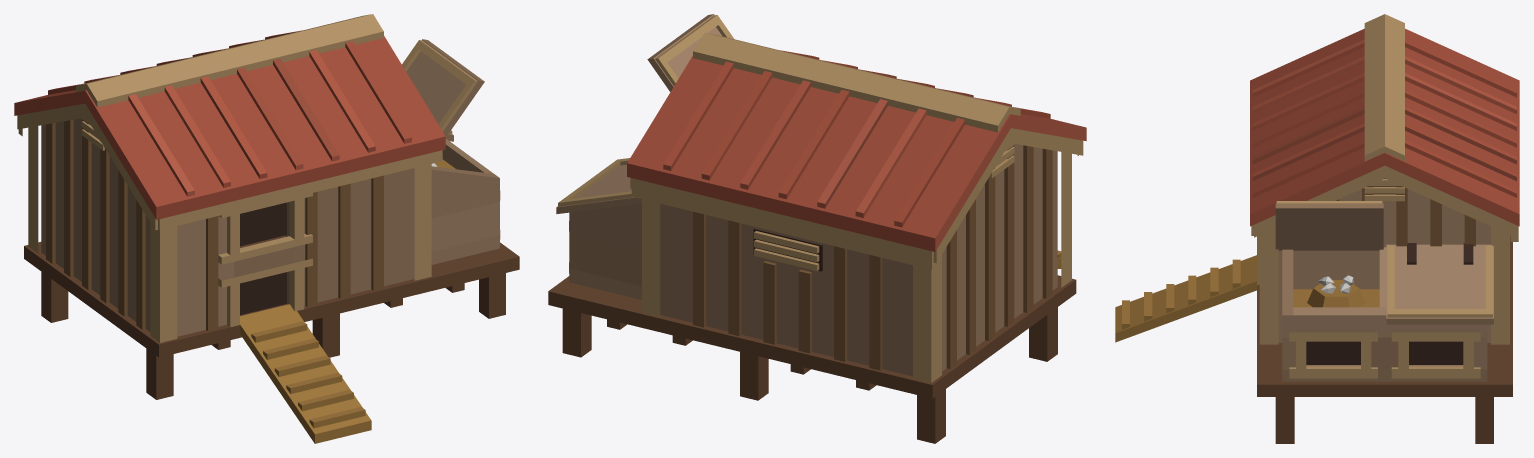
Rendered from chicken-coop-371f97.glb.
3 views of the same model, side by side, from view 1: azimuth 30°, elevation 25°; view 2: azimuth 150°, elevation 25°; view 3: azimuth 270°, elevation 25° (orthographic). The views are drawn at different scales.
Parts seen in each view (by area): view 1: object 1, object 8, nest-lid-b; view 2: object 1, nest-lid-a, nest-lid-b; view 3: object 1, nest-lid-a, nest-lid-b, object 8.
Part boxes in pixels (bbox=[...]): object 1: bbox=[14, 14, 519, 399]; object 8: bbox=[240, 304, 371, 443]; nest-lid-b: bbox=[402, 39, 484, 137]; object 1: bbox=[548, 32, 1086, 443]; nest-lid-a: bbox=[556, 158, 641, 214]; nest-lid-b: bbox=[647, 14, 734, 91]; object 1: bbox=[1250, 14, 1519, 443]; nest-lid-a: bbox=[1386, 243, 1493, 324]; nest-lid-b: bbox=[1275, 201, 1383, 250]; object 8: bbox=[1115, 255, 1256, 342].
Bounding box in the file's own units: 3 × 2.15 × 3.
